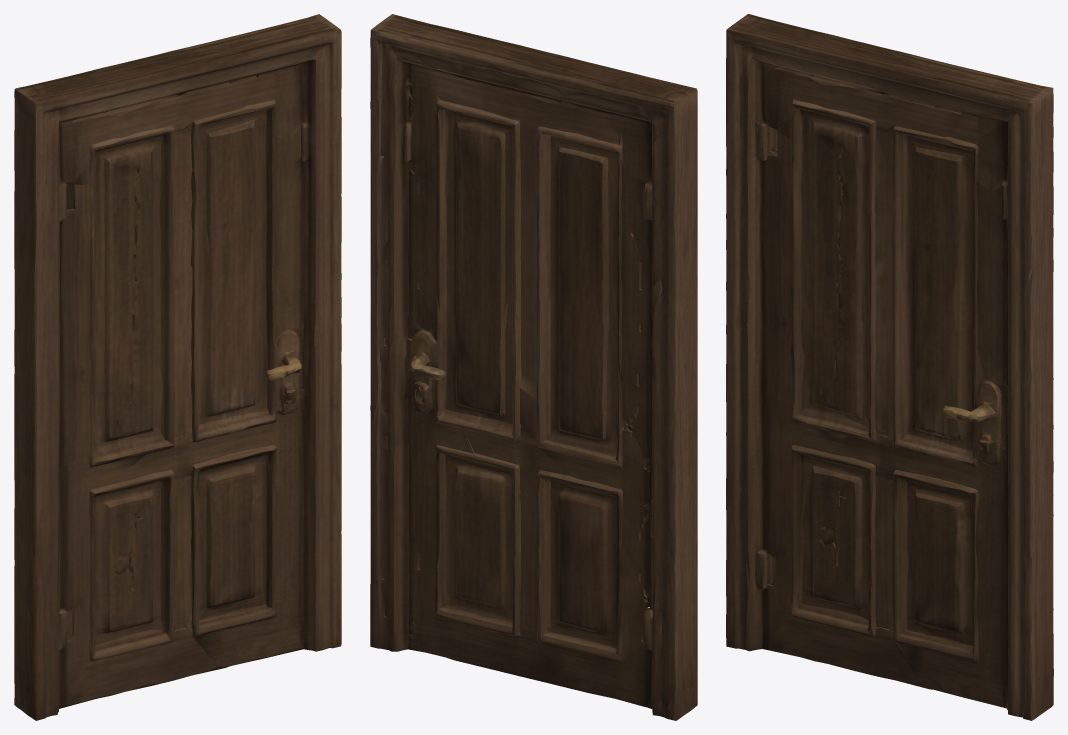
The picture shows the model from 3 angles, left to right: view 1: azimuth 30°, elevation 25°; view 2: azimuth 150°, elevation 25°; view 3: azimuth 330°, elevation 25°; orthographic projection.
Parts seen in each view (by area): view 1: world; view 2: world; view 3: world.
Part boxes in pixels (x1,y1,x2,y2): world: [14, 14, 341, 720]; world: [370, 14, 697, 720]; world: [726, 14, 1053, 720].
Size of the model in its own units: 2 by 3.84 by 0.4624.
Materials: 1 (1 with a texture image).
